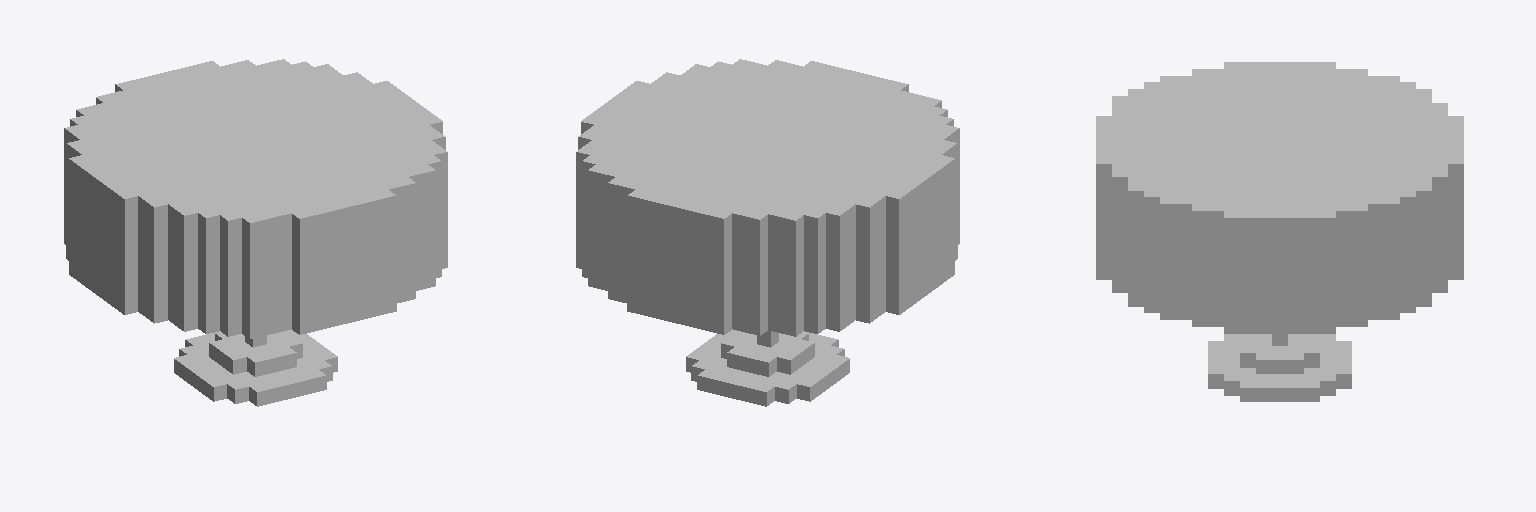
Rendered from mesachique.obj.
3 views of the same model, side by side, from view 1: azimuth 30°, elevation 25°; view 2: azimuth 150°, elevation 25°; view 3: azimuth 270°, elevation 25° (orthographic).
Parts seen in each view (by area): view 1: mesachique; view 2: mesachique; view 3: mesachique.
Boxes of the visible parts, x1,y1,x2,y2 form: mesachique: [64, 59, 447, 406]; mesachique: [576, 59, 959, 406]; mesachique: [1096, 62, 1463, 401].
Size of the model in its own units: 23 by 16 by 23.